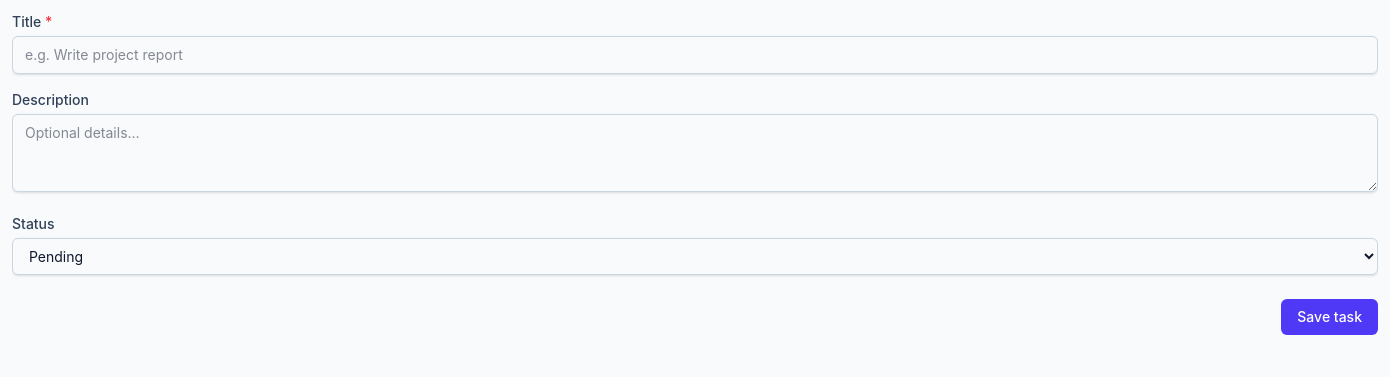
Test: TaskForm › shows a required-field error and does not submit when title is empty
Click the button "Save task" at (1330, 317), box [1281,299,1378,335]
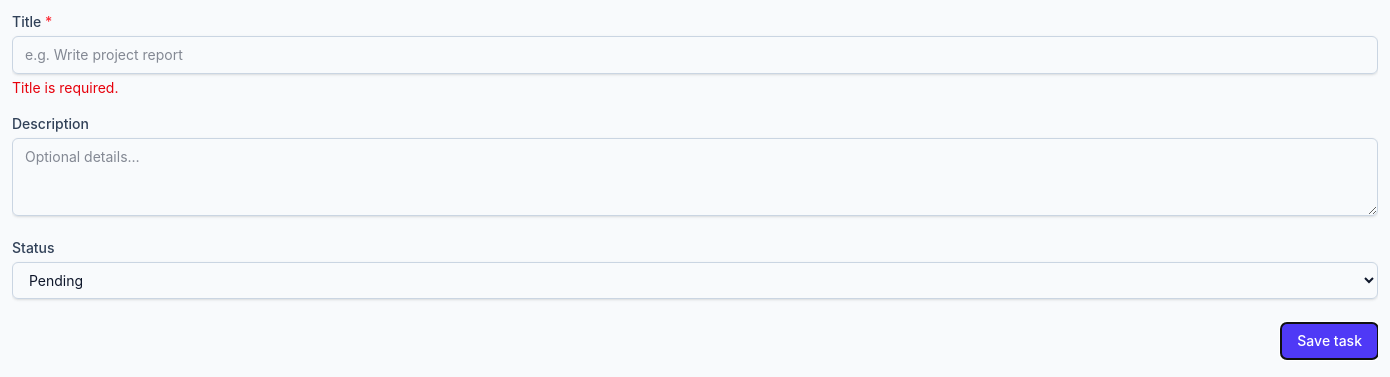
Result: the text "Title is required." is shown at [12,79,118,96]
